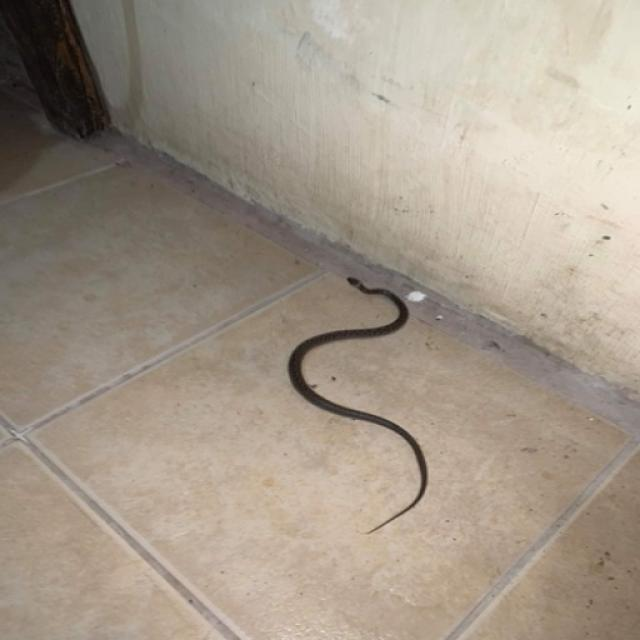snake: (277, 264, 470, 562)
